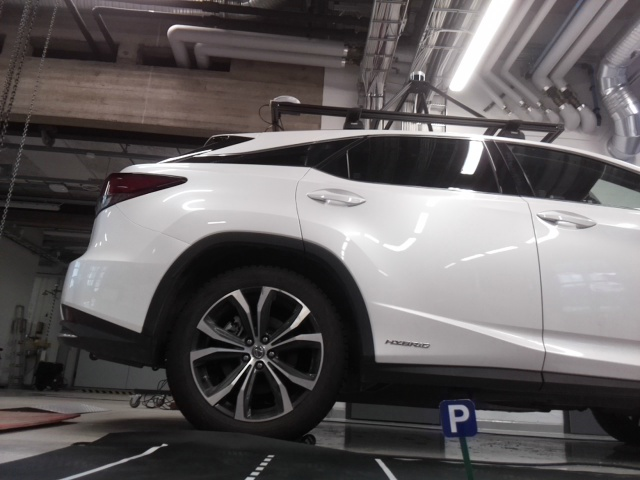Parking: (437, 398, 476, 436)
